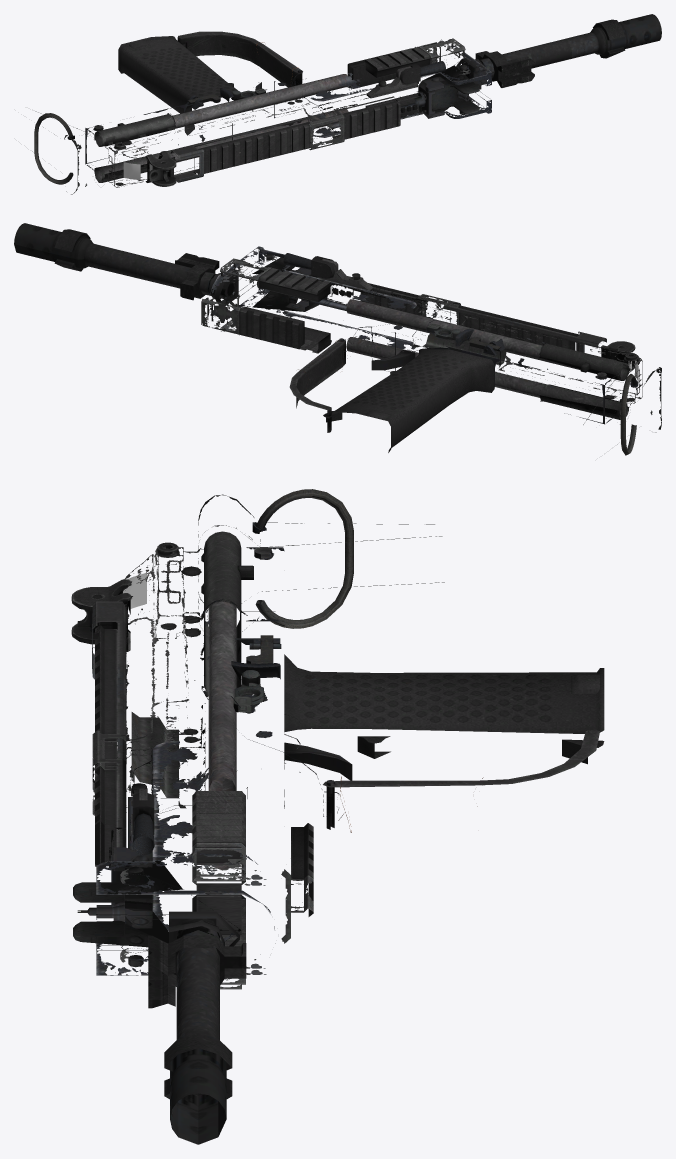
The model's file is t6_wpn_smg_msmc_view_LOD0.obj.
The picture shows the model from 3 angles, top to bottom: view 1: azimuth 30°, elevation 25°; view 2: azimuth 150°, elevation 25°; view 3: azimuth 270°, elevation 25°; orthographic projection. The views are drawn at different scales.
Parts seen in each view (by area): view 1: mtl_t6_wpn_smg_msmc_camo1, mtl_t6_wpn_smg_msmc_camo2, mtl_t6_wpn_smg_msmc_camo3, mtl_t6_wpn_smg_msmc_camo4, mtl_player_icon; view 2: mtl_t6_wpn_smg_msmc_camo1, mtl_t6_wpn_smg_msmc_camo2, mtl_t6_wpn_smg_msmc_camo3, mtl_t6_wpn_smg_msmc_camo4; view 3: mtl_t6_wpn_smg_msmc_camo1, mtl_t6_wpn_smg_msmc_camo2, mtl_t6_wpn_smg_msmc_camo3, mtl_t6_wpn_smg_msmc_camo4.
Boxes of the visible parts, x1,y1,x2,y2 form: mtl_t6_wpn_smg_msmc_camo1: (34, 14, 661, 187); mtl_t6_wpn_smg_msmc_camo2: (32, 36, 491, 194); mtl_t6_wpn_smg_msmc_camo3: (35, 19, 625, 184); mtl_t6_wpn_smg_msmc_camo4: (171, 96, 394, 182); mtl_player_icon: (123, 162, 140, 179); mtl_t6_wpn_smg_msmc_camo1: (14, 223, 642, 453); mtl_t6_wpn_smg_msmc_camo2: (209, 246, 661, 452); mtl_t6_wpn_smg_msmc_camo3: (54, 229, 637, 455); mtl_t6_wpn_smg_msmc_camo4: (372, 287, 605, 347); mtl_t6_wpn_smg_msmc_camo1: (71, 489, 604, 1144); mtl_t6_wpn_smg_msmc_camo2: (92, 494, 604, 975); mtl_t6_wpn_smg_msmc_camo3: (89, 531, 599, 1099); mtl_t6_wpn_smg_msmc_camo4: (96, 601, 126, 847).
Size of the model in its own units: 55.85 by 6.36 by 22.1.
